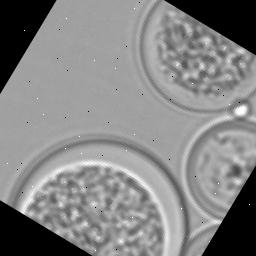picoshell: (5, 140, 187, 256), (134, 0, 256, 115), (179, 112, 256, 217), (182, 220, 220, 256)
